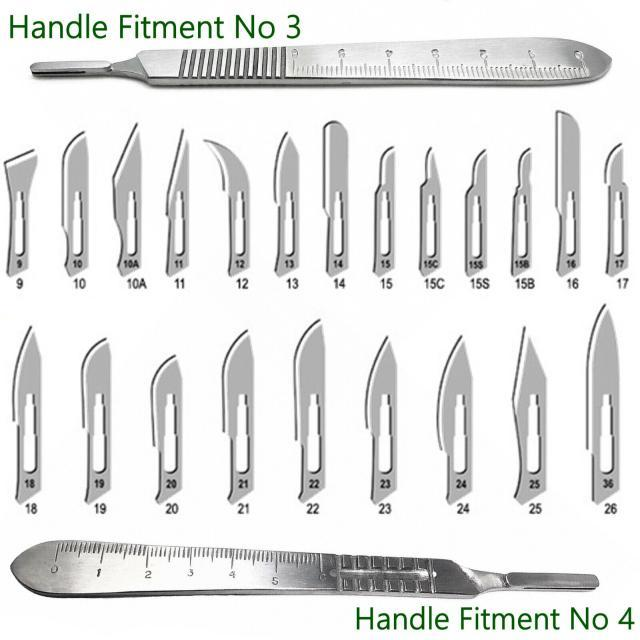Knife handle: (6, 532, 603, 598), (25, 39, 612, 91)
Surgical blade: (432, 327, 489, 515), (356, 332, 412, 508), (501, 324, 553, 511), (7, 320, 54, 516), (283, 317, 331, 506), (585, 300, 628, 510), (73, 332, 123, 509), (218, 322, 263, 511), (55, 128, 101, 282), (547, 104, 587, 279), (148, 346, 190, 508), (314, 112, 353, 281), (206, 135, 253, 275), (155, 126, 197, 277), (108, 118, 147, 279), (0, 140, 40, 279), (366, 141, 403, 287), (603, 130, 636, 293), (509, 148, 545, 285), (273, 130, 304, 281), (462, 144, 493, 280), (418, 149, 442, 281)
